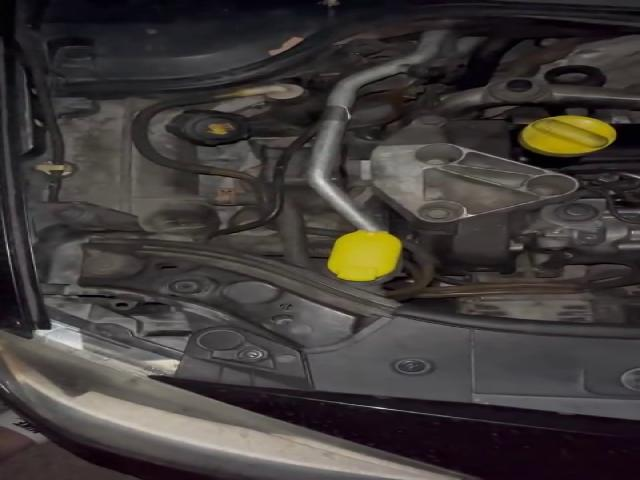antifreeze_tank: (57, 99, 223, 241), (148, 106, 252, 165)
